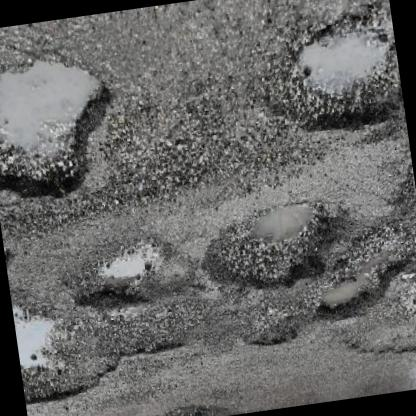pothole: (245, 7, 406, 150), (0, 48, 128, 210), (14, 298, 195, 408), (196, 190, 350, 302), (307, 204, 416, 326), (60, 228, 198, 316), (342, 314, 416, 365), (241, 310, 307, 352)
